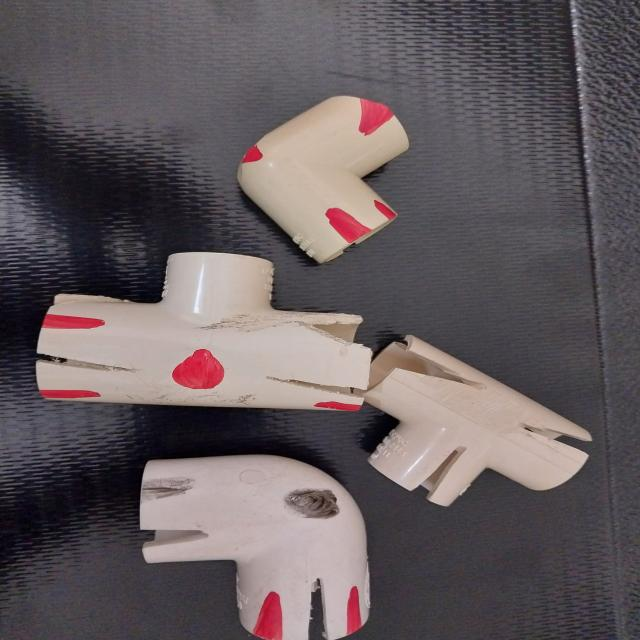Defective: (130, 294, 312, 352), (296, 181, 378, 246), (282, 327, 370, 369), (260, 370, 369, 402), (142, 508, 219, 552), (514, 420, 592, 463), (35, 351, 138, 380), (418, 448, 469, 498), (295, 316, 366, 350), (172, 352, 225, 391), (196, 310, 257, 339), (307, 577, 334, 639), (283, 490, 340, 518), (225, 302, 270, 335), (325, 210, 368, 244), (358, 102, 395, 136), (255, 596, 283, 638), (47, 313, 102, 330), (346, 591, 362, 635), (39, 392, 95, 404), (146, 485, 189, 496), (375, 202, 395, 218), (241, 149, 260, 164), (378, 207, 394, 220)
L Joint: (132, 452, 369, 636), (236, 91, 410, 263)
T Joint: (36, 244, 387, 413), (369, 329, 597, 514)
